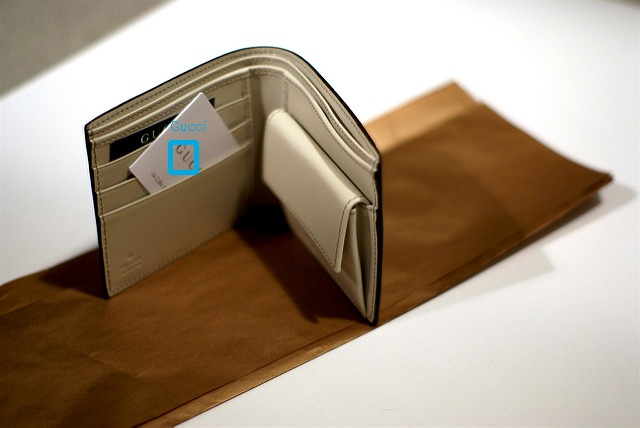Chanel: (165, 141, 211, 179), (130, 121, 185, 141)
